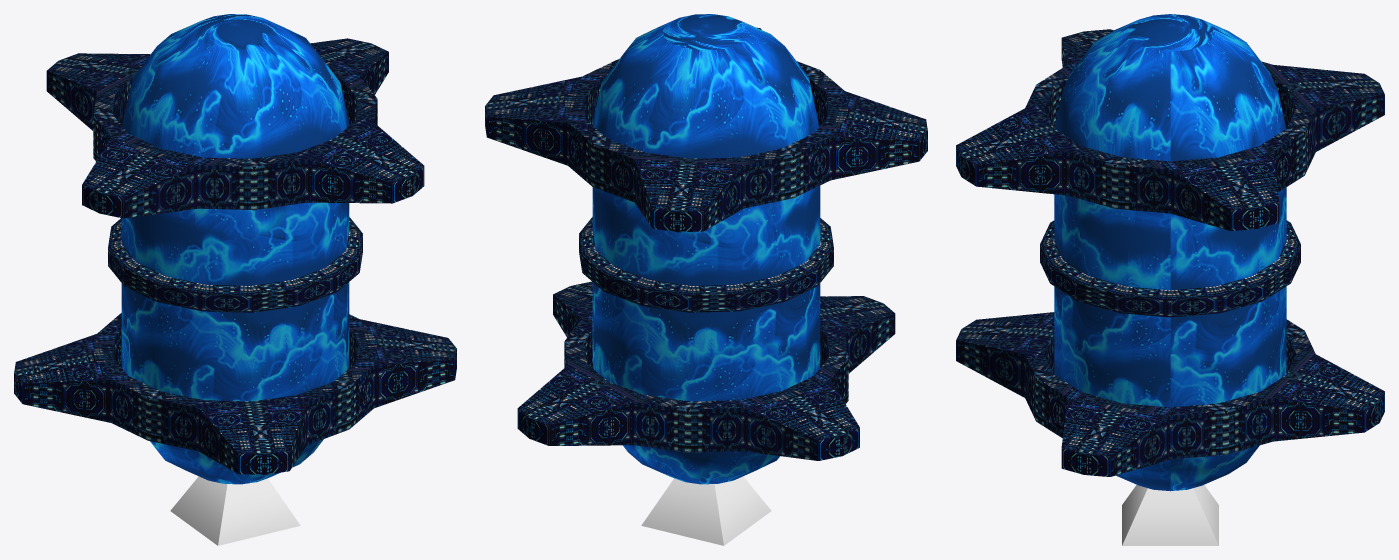
The model's file is dorelc01.FBX.
3 renders of one model, left to right at view 1: azimuth 30°, elevation 25°; view 2: azimuth 150°, elevation 25°; view 3: azimuth 270°, elevation 25°, orthographic.
Visible parts, largest first — view 1: dorelc01, case__2e, hp_dummyroot; view 2: dorelc01, case__2e, hp_dummyroot; view 3: dorelc01, case__2e, hp_dummyroot.
Part boxes in pixels (left/top/right/bottom): dorelc01: left=14, top=38, right=456, bottom=474; case__2e: left=121, top=14, right=349, bottom=484; hp_dummyroot: left=170, top=476, right=300, bottom=545; dorelc01: left=485, top=27, right=927, bottom=460; case__2e: left=592, top=14, right=820, bottom=484; hp_dummyroot: left=641, top=476, right=771, bottom=545; dorelc01: left=956, top=29, right=1384, bottom=476; case__2e: left=1054, top=14, right=1286, bottom=491; hp_dummyroot: left=1122, top=485, right=1218, bottom=545.
Size of what is drawn, in the model's own units: 4.42 by 4.42 by 5.7.
